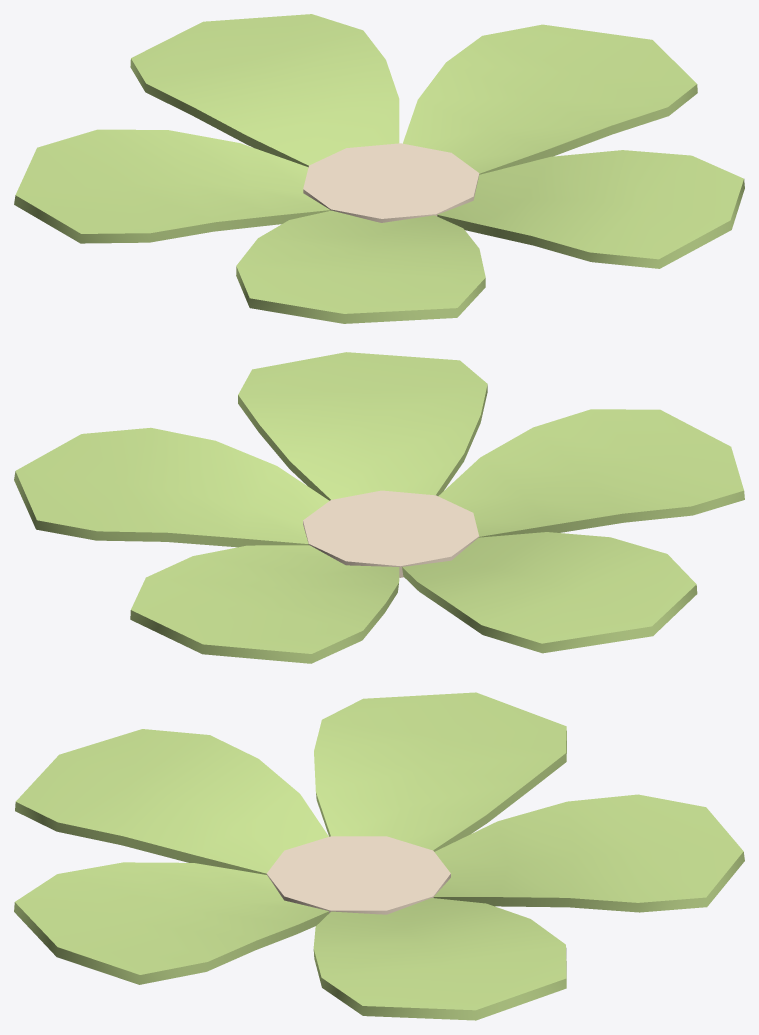
Rendered from flor02.fbx.
The picture shows the model from 3 angles, top to bottom: view 1: azimuth 30°, elevation 25°; view 2: azimuth 150°, elevation 25°; view 3: azimuth 270°, elevation 25°; orthographic projection. The views are drawn at different scales.
Visible parts, largest first — view 1: flor02; view 2: flor02; view 3: flor02.
Boxes of the visible parts, box(x1,y1,x2,y2) form: flor02: box(14, 14, 744, 323); flor02: box(14, 352, 744, 663); flor02: box(14, 692, 744, 1020).
Bounding box in the file's own units: 17.17 × 0.9217 × 16.62.
